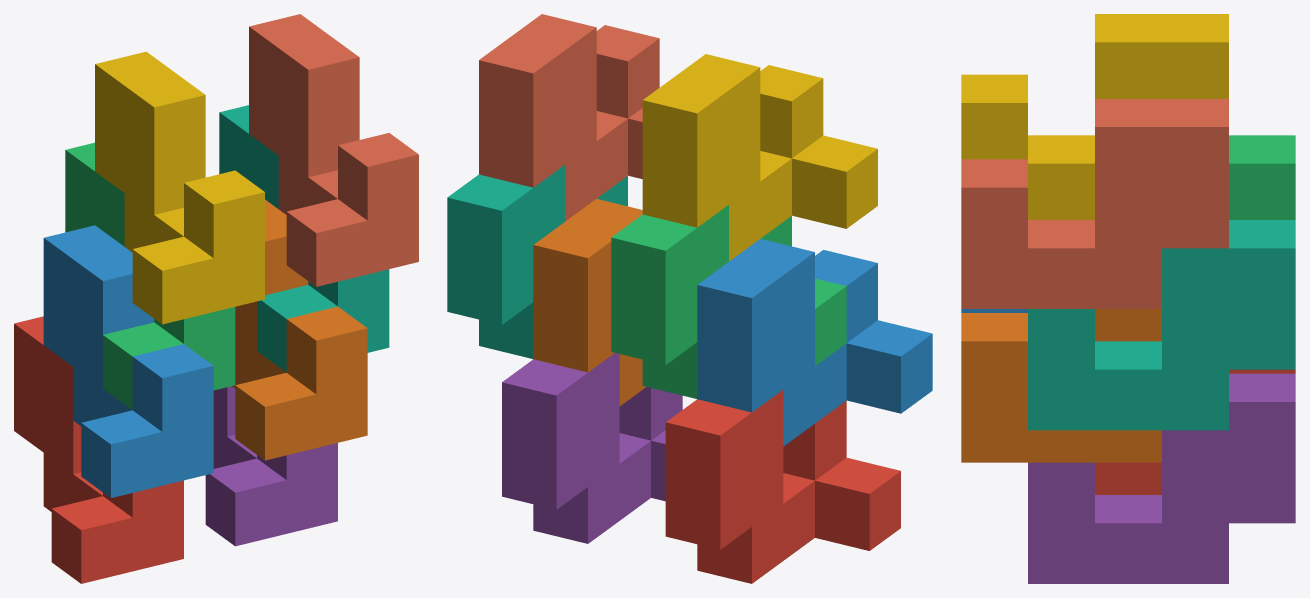
File: tiling.obj
3 renders of one model, left to right at view 1: azimuth 30°, elevation 25°; view 2: azimuth 150°, elevation 25°; view 3: azimuth 270°, elevation 25°, orthographic. The views are drawn at different scales.
Visible parts, largest first — view 1: copy_1_domain_4, copy_1_domain_8, copy_1_domain_2, copy_1_domain_1, copy_1_domain_6, copy_1_domain_5, copy_1_domain_3, copy_1_domain_7; view 2: copy_1_domain_4, copy_1_domain_1, copy_1_domain_2, copy_1_domain_8, copy_1_domain_5, copy_1_domain_3, copy_1_domain_7, copy_1_domain_6; view 3: copy_1_domain_8, copy_1_domain_7, copy_1_domain_5, copy_1_domain_4, copy_1_domain_6, copy_1_domain_3, copy_1_domain_1.
Part boxes in pixels (x1,y1,x2,y2): copy_1_domain_4: [95, 51, 264, 324]; copy_1_domain_8: [249, 14, 418, 286]; copy_1_domain_2: [43, 225, 213, 497]; copy_1_domain_1: [14, 316, 183, 583]; copy_1_domain_6: [232, 199, 367, 460]; copy_1_domain_5: [205, 386, 337, 546]; copy_1_domain_3: [65, 142, 235, 409]; copy_1_domain_7: [219, 105, 389, 372]; copy_1_domain_4: [642, 54, 877, 261]; copy_1_domain_1: [665, 390, 900, 583]; copy_1_domain_2: [697, 239, 932, 446]; copy_1_domain_8: [479, 14, 659, 221]; copy_1_domain_5: [502, 353, 682, 543]; copy_1_domain_3: [611, 205, 846, 398]; copy_1_domain_7: [447, 165, 627, 358]; copy_1_domain_6: [533, 199, 646, 405]; copy_1_domain_8: [961, 99, 1228, 308]; copy_1_domain_7: [1028, 220, 1295, 430]; copy_1_domain_5: [1028, 373, 1295, 583]; copy_1_domain_4: [961, 14, 1228, 219]; copy_1_domain_6: [961, 309, 1161, 462]; copy_1_domain_3: [1229, 135, 1295, 219]; copy_1_domain_1: [1095, 369, 1295, 494].
Bounding box in the file's own units: 6 × 8 × 5.
